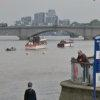Boat: (21, 35, 50, 52)
